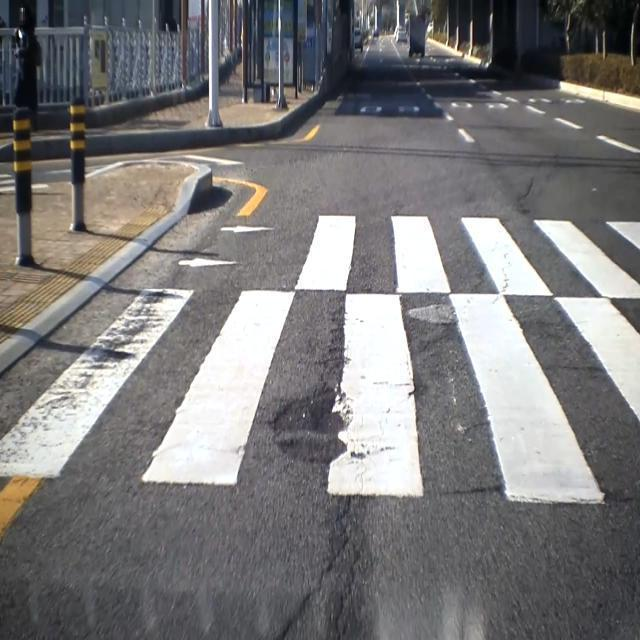pothole: (270, 384, 353, 478)
